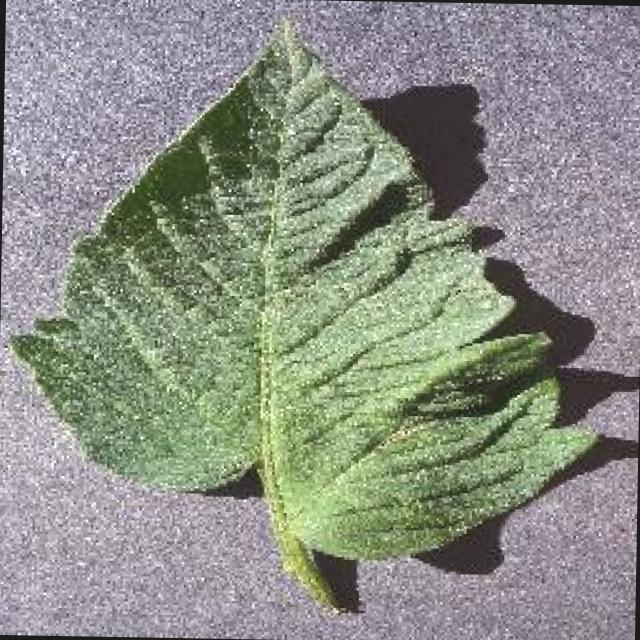healthy: (5, 23, 600, 624)
